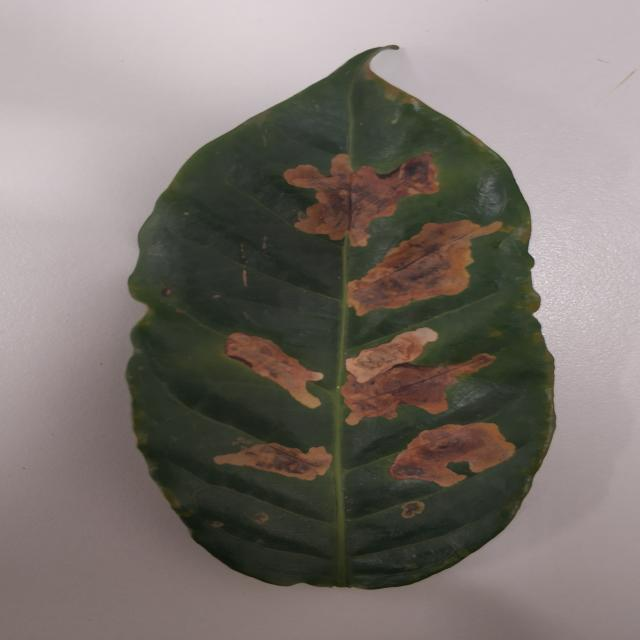Plaga-Minador: (125, 46, 557, 593)
